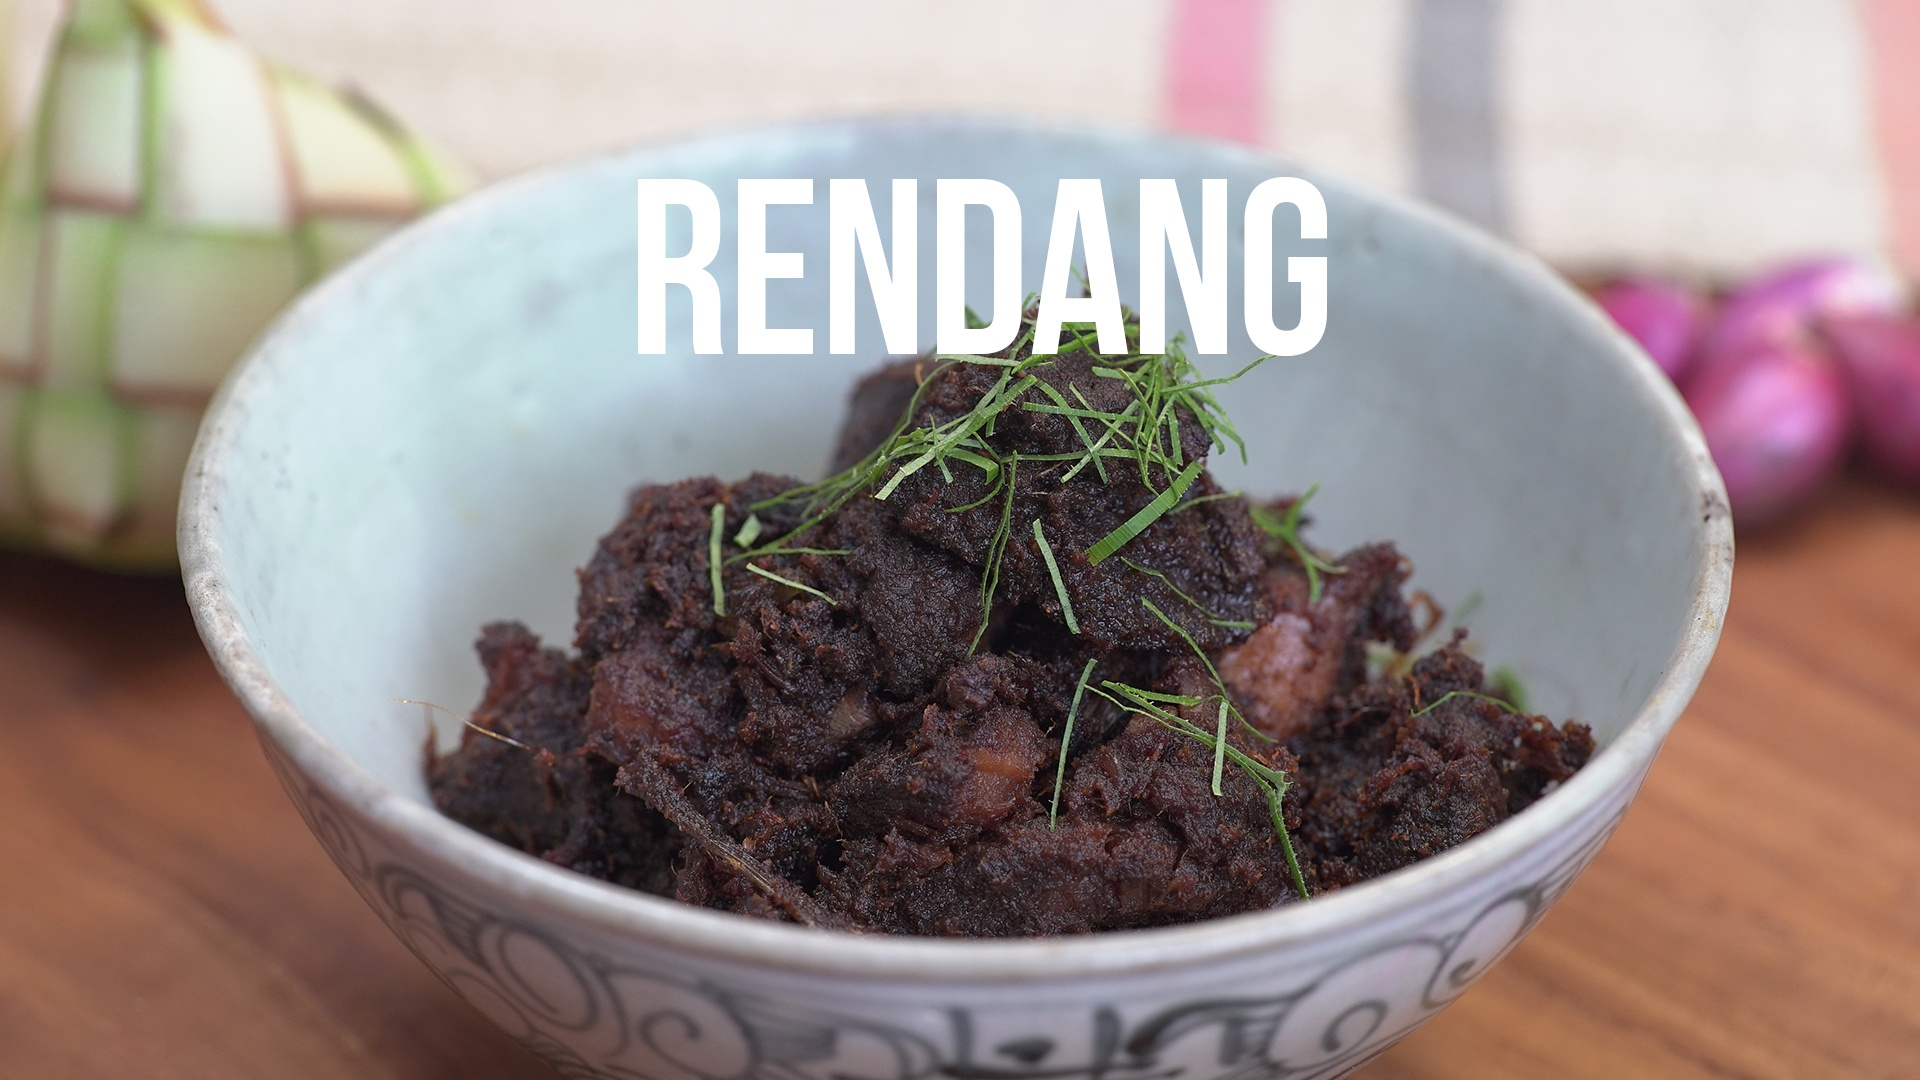rendang: (430, 320, 1597, 943)
